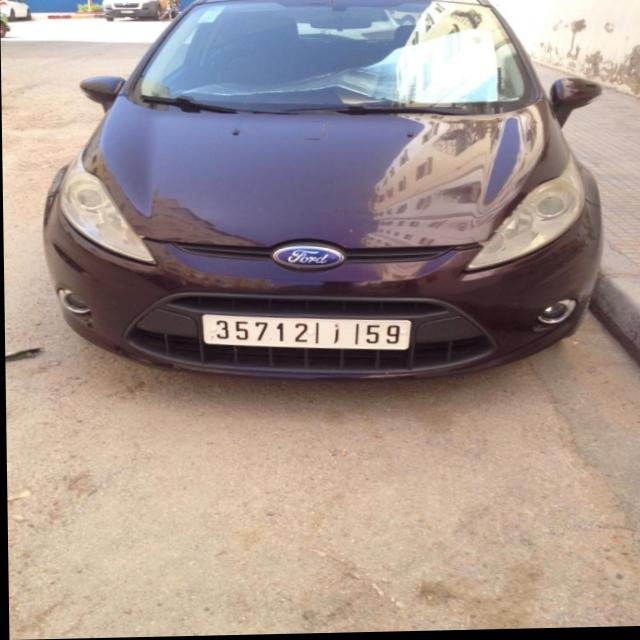License-Plate: (200, 315, 411, 351)
